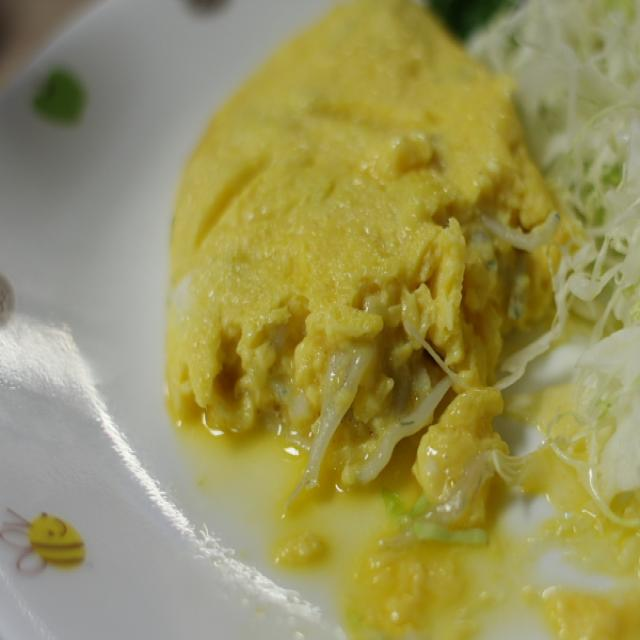鸡蛋料理: (190, 0, 560, 538)
